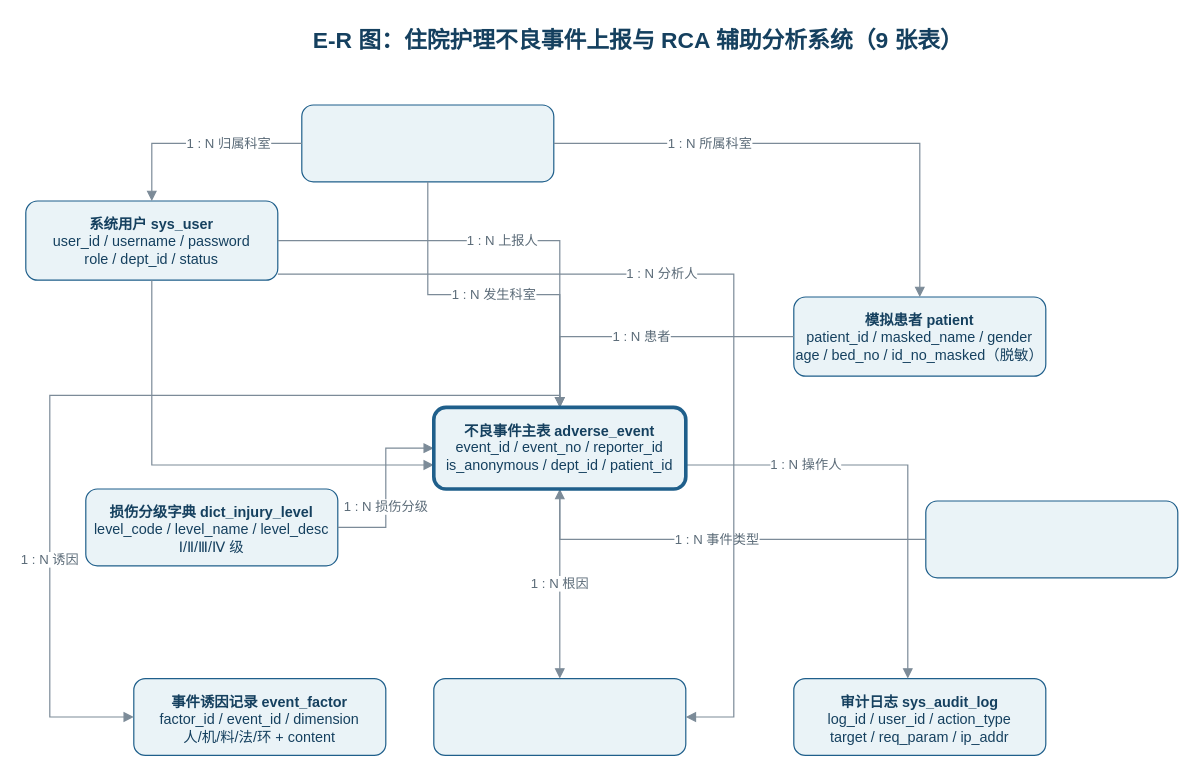
Some shapes in this 1199 by 776 pixel diagram are drawn without their labels. Here are the shapes that lost their labels. From the top down, the box of each, then its label:
(301, 104, 554, 182): 科室字典 sys_department dept_id / dept_code / dept_name / status
(925, 500, 1178, 578): 事件类型字典 dict_event_type type_id / type_code / type_name category（跌倒/压疮/外渗…）
(433, 677, 686, 755): RCA 根因分析 rca_record rca_id / event_id / analyst_id root_* / improvement / status
